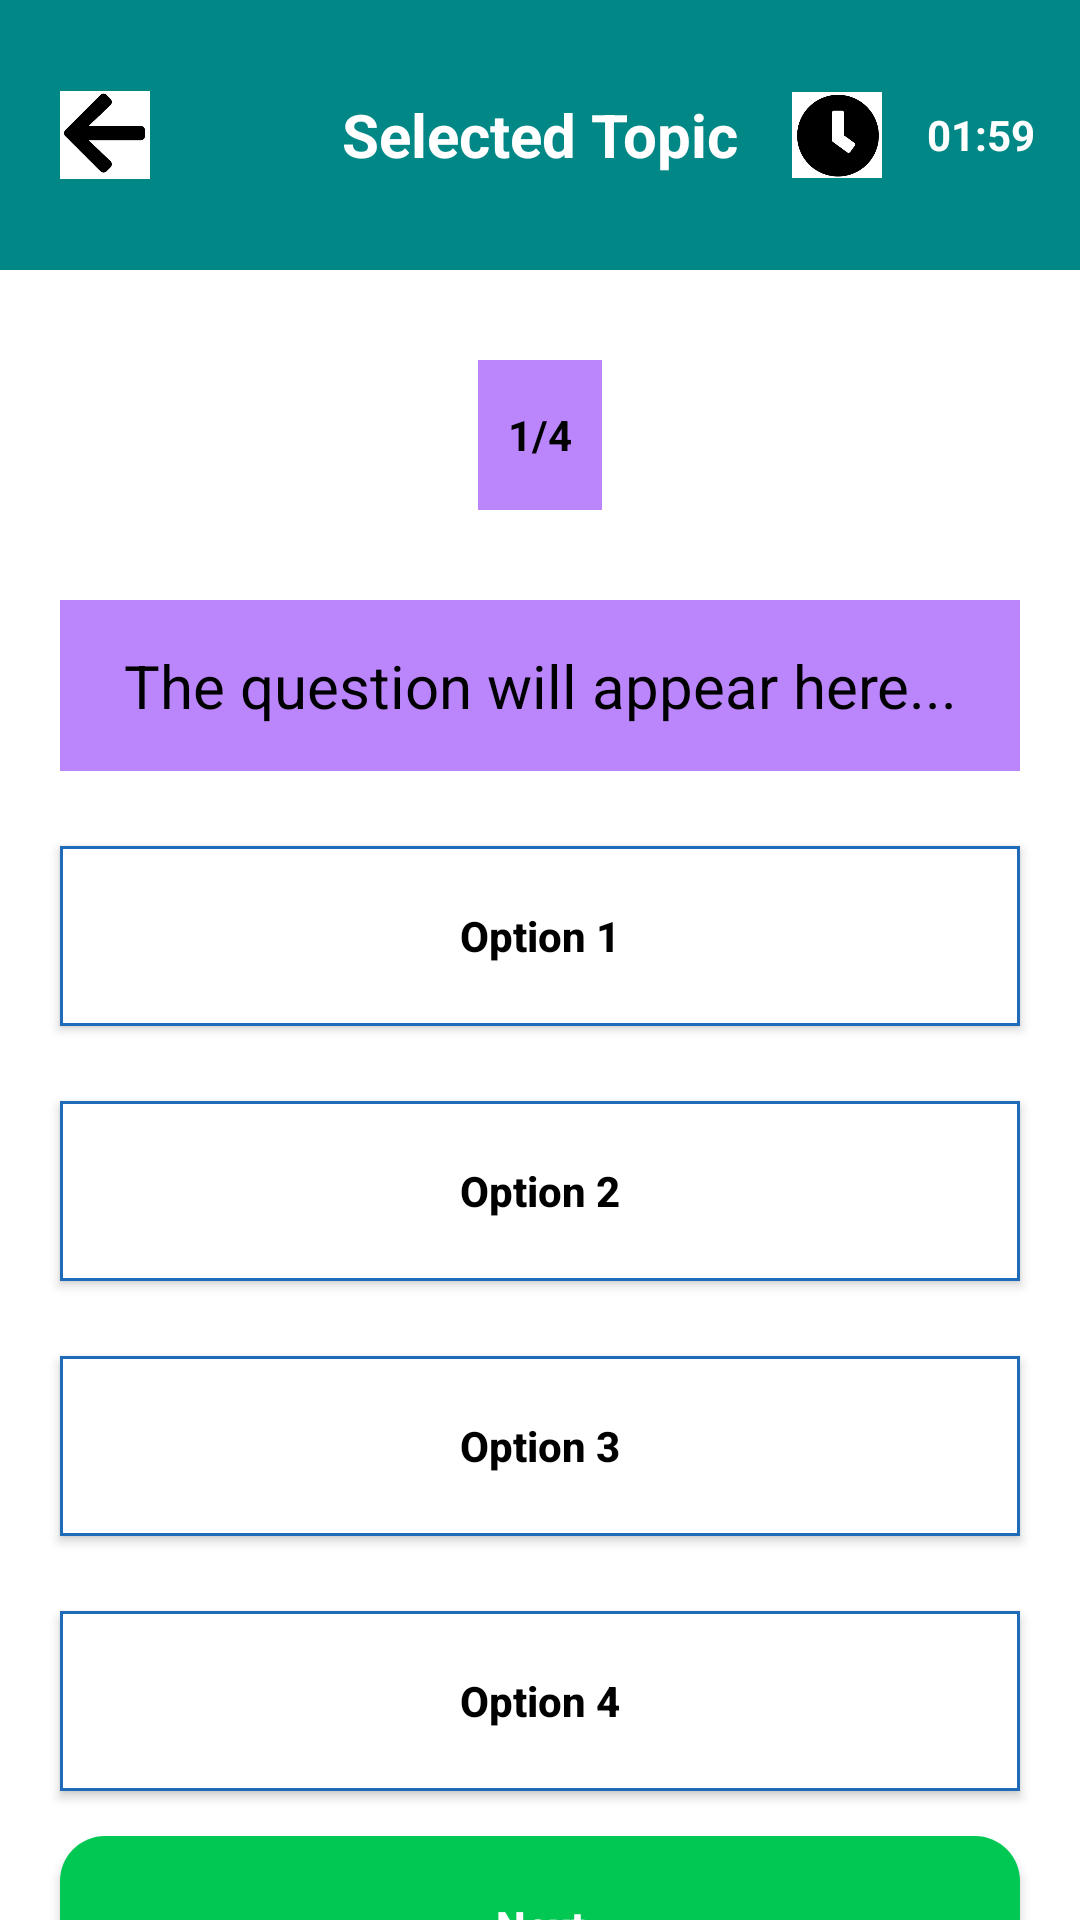

Icons on this 1080 × 1920 Android screen, each with its box as {"left": x1, "top": y1, "right": x2, "bottom": y2}:
back: {"left": 60, "top": 91, "right": 150, "bottom": 179}
stopwatch: {"left": 792, "top": 92, "right": 882, "bottom": 178}
